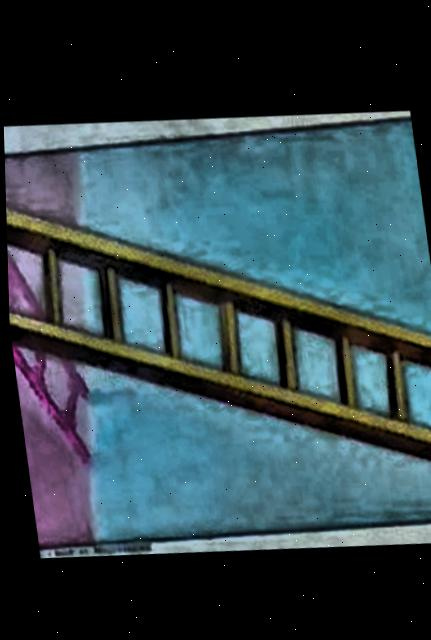La Escalera: (4, 112, 431, 553)
